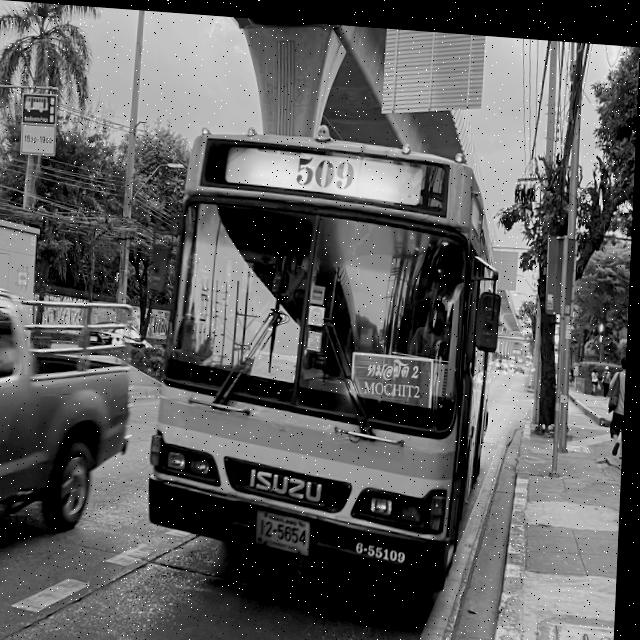BMTA-bus: (152, 128, 503, 585)
Bus Line Number: (299, 149, 355, 186)
Bus Side Number: (358, 539, 411, 557)
Destination Sign: (356, 348, 434, 402)
